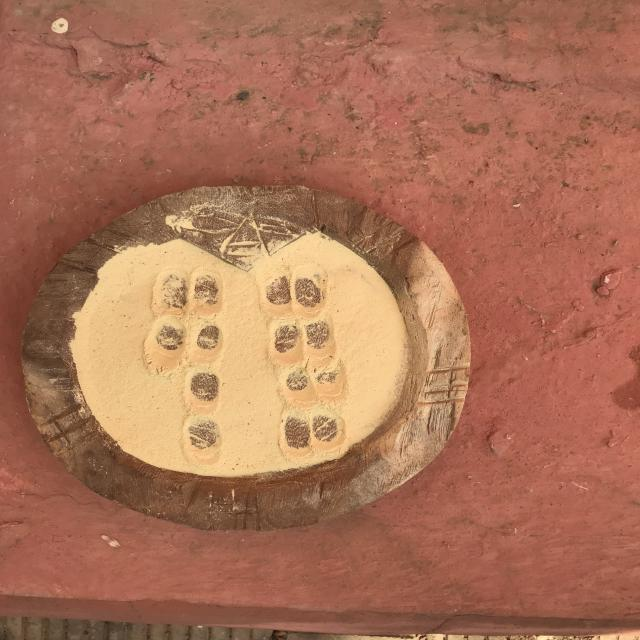double: (144, 316, 231, 371), (148, 265, 229, 321), (260, 264, 335, 318), (268, 315, 341, 367), (278, 403, 350, 455), (274, 362, 354, 403)
single: (179, 414, 226, 468), (181, 366, 229, 418)
